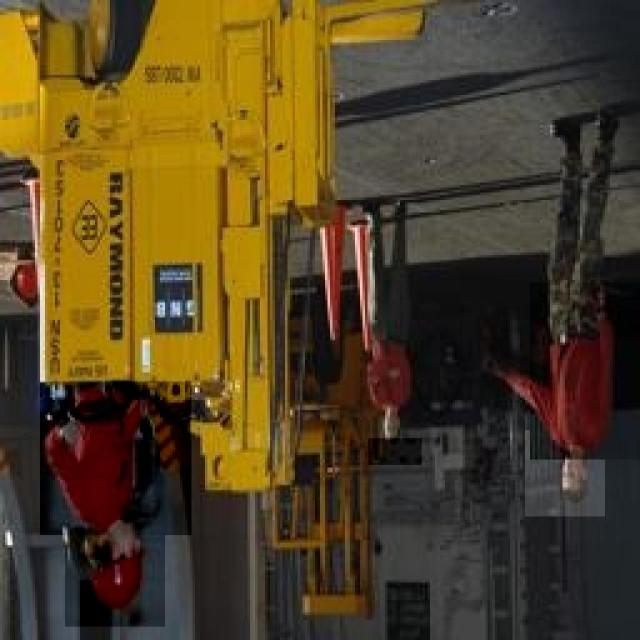Helmet: (40, 381, 192, 535), (530, 282, 640, 460), (354, 312, 450, 438), (65, 520, 165, 627), (525, 431, 605, 516), (368, 400, 422, 465)
